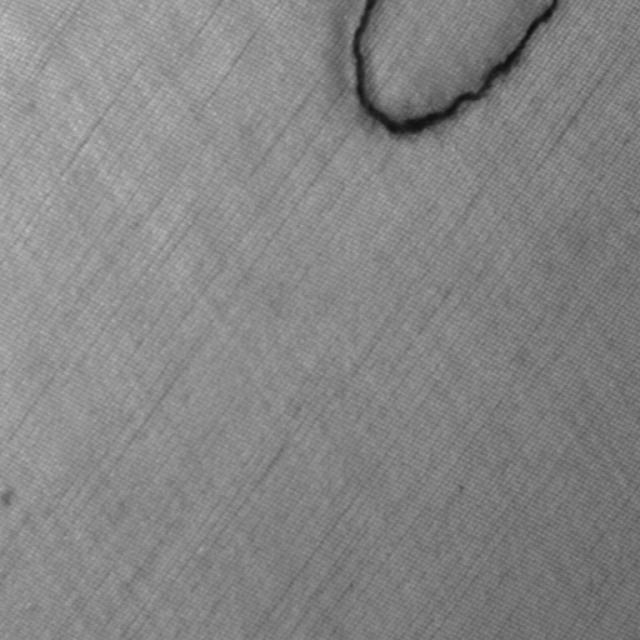Thread: (348, 0, 559, 138)
